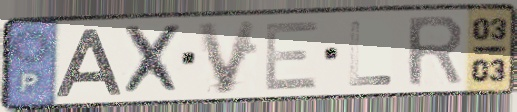A: (52, 27, 125, 99)
E: (261, 18, 322, 93)
L: (347, 18, 395, 89)
R: (404, 12, 467, 89)
V: (193, 18, 261, 97)
X: (119, 22, 185, 98)
